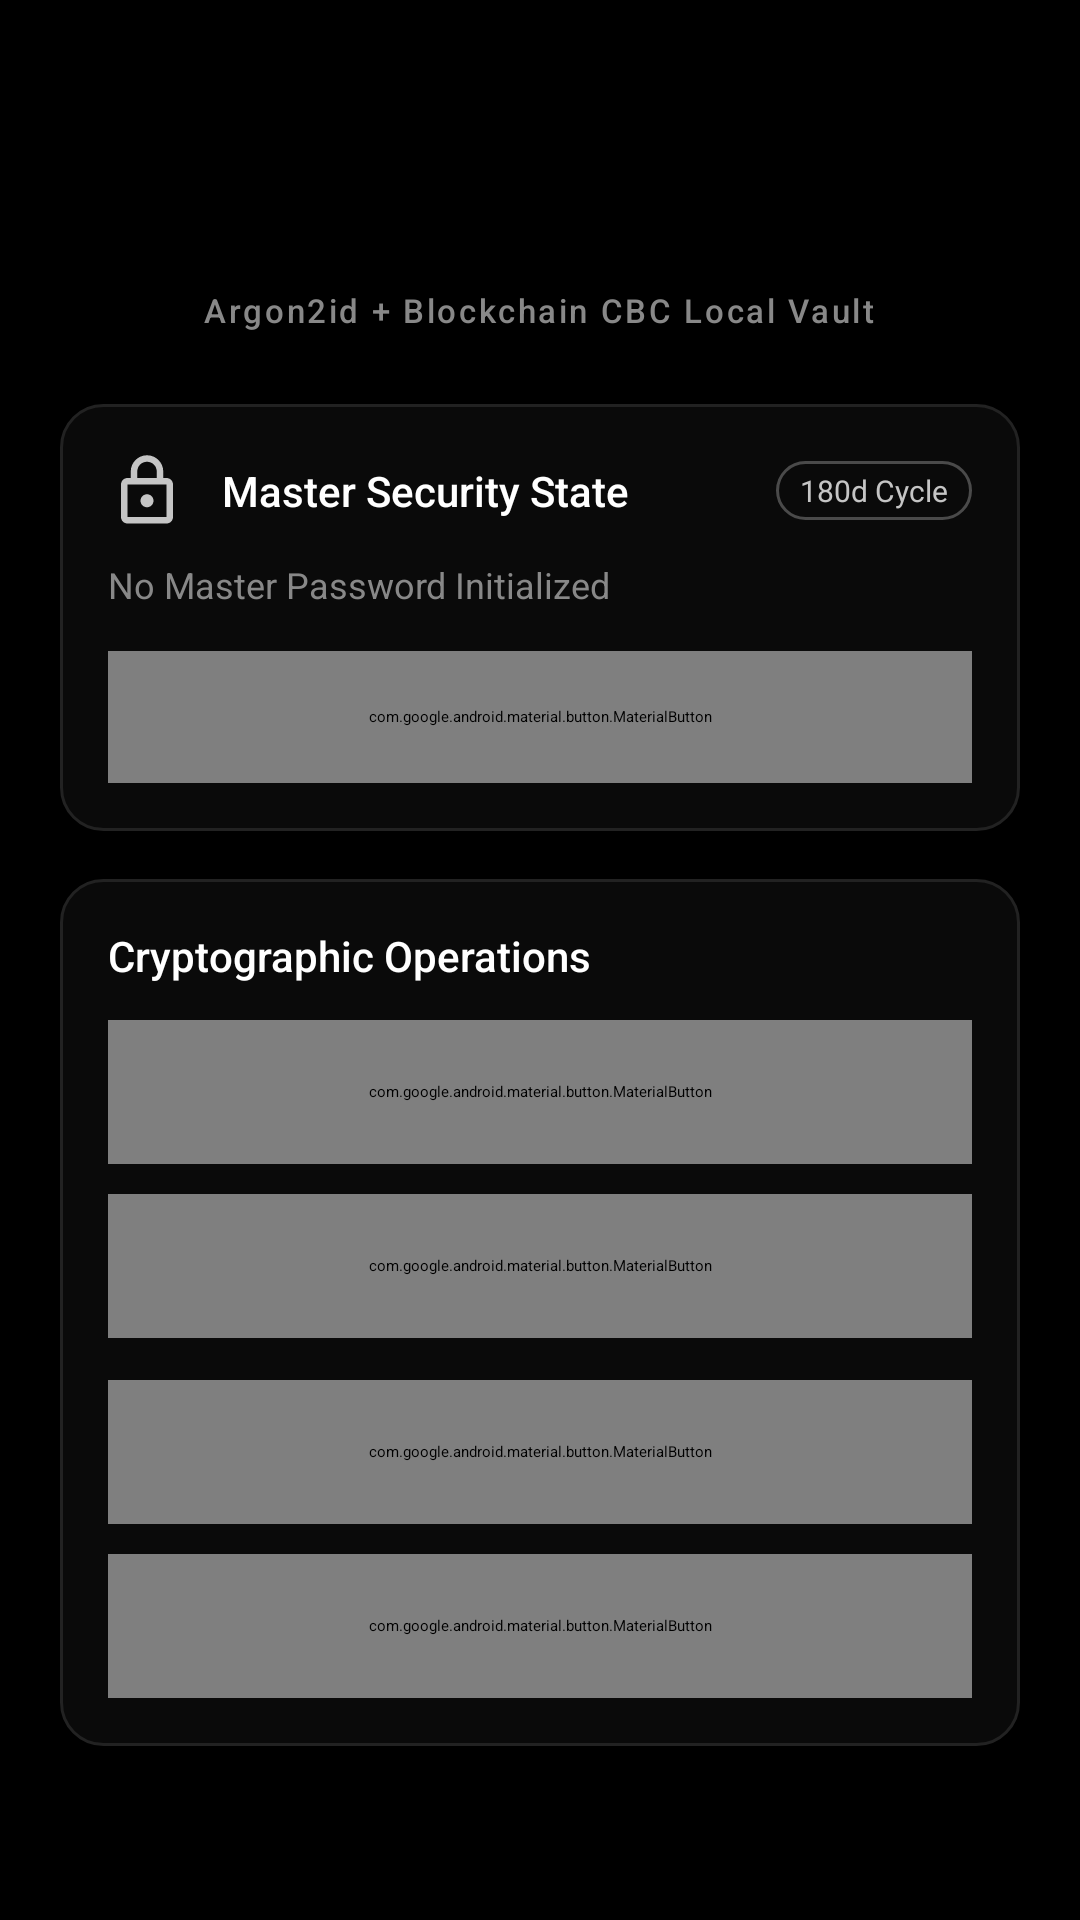

Where icons sit on this 1080px×1920px app screen, as (x1, y1, x2, y2):
lock silver: (121, 455, 173, 524)
